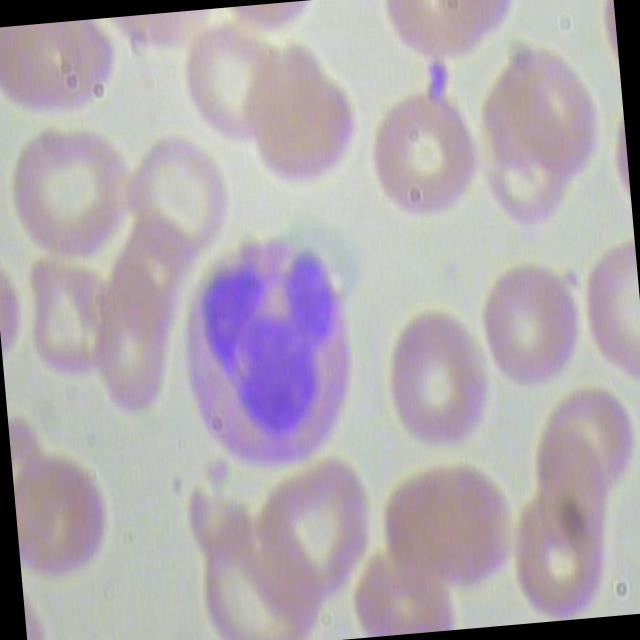RBC: (231, 456, 378, 605), (372, 460, 518, 609), (0, 119, 134, 272), (468, 248, 588, 404), (480, 33, 600, 188), (368, 80, 487, 236), (378, 299, 497, 454), (242, 50, 361, 205), (174, 16, 293, 170), (116, 128, 234, 283), (501, 477, 620, 624), (11, 449, 113, 591), (0, 18, 118, 127)
WBC: (165, 221, 369, 480)
